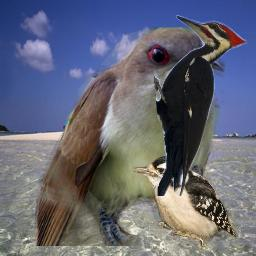Cuckoo: (35, 27, 225, 246)
Woodpecker: (154, 14, 250, 196), (131, 156, 238, 250)
